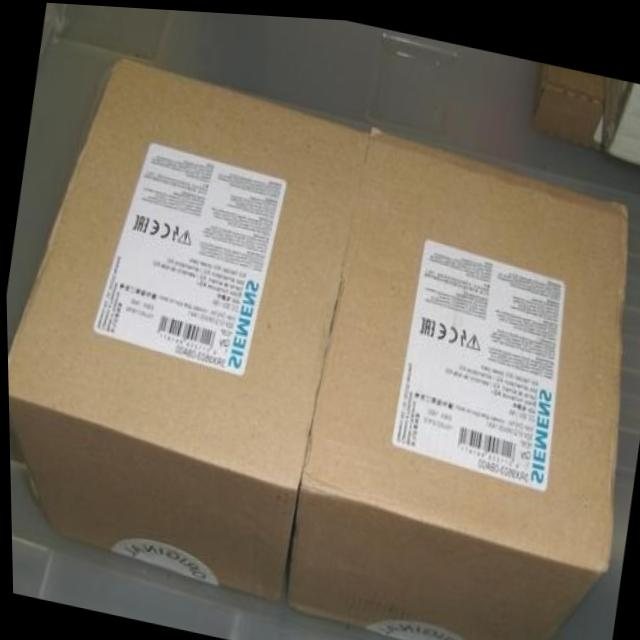box: (6, 54, 371, 597), (282, 126, 630, 640), (530, 59, 606, 141), (601, 70, 640, 157)
